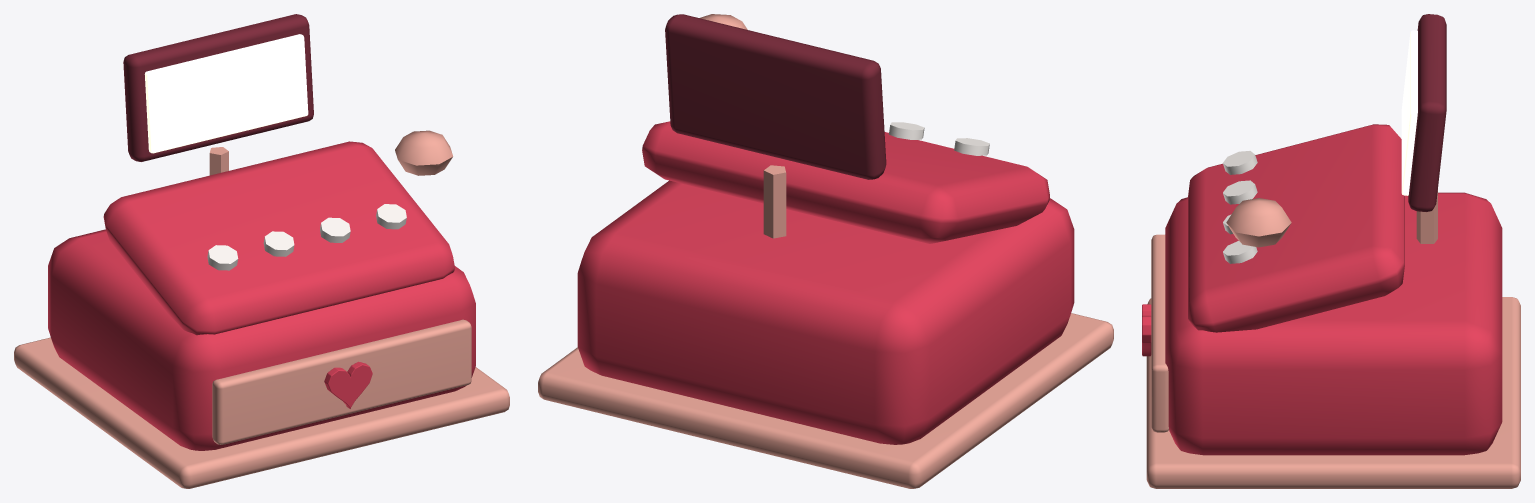
The model's file is register_retro.glb.
3 views of the same model, side by side, from view 1: azimuth 30°, elevation 25°; view 2: azimuth 150°, elevation 25°; view 3: azimuth 270°, elevation 25° (orthographic). The views are drawn at different scales.
Parts seen in each view (by area): view 1: register_retro; view 2: register_retro; view 3: register_retro.
Part boxes in pixels (box(x1,y1,x2,y2)): register_retro: box(14, 14, 509, 488); register_retro: box(538, 14, 1113, 488); register_retro: box(1142, 14, 1520, 488).
Size of the model in its own units: 0.44 by 0.4102 by 0.405.
